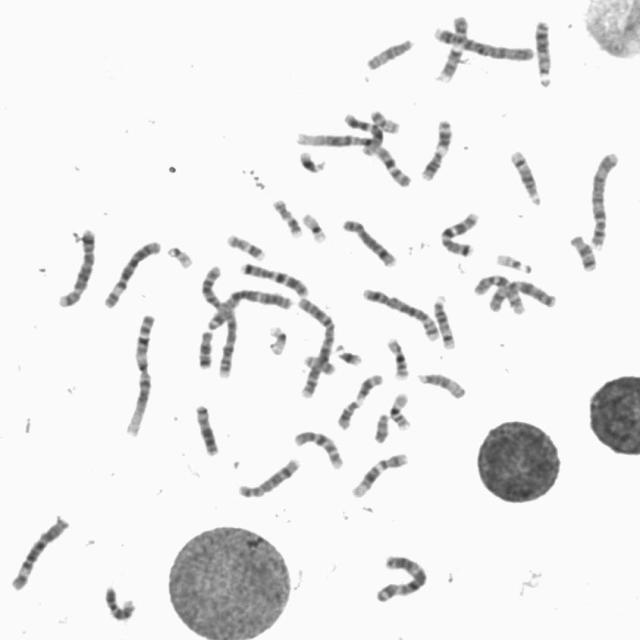A1: (291, 126, 416, 189), (120, 308, 158, 439)
A2: (197, 261, 240, 380), (293, 291, 339, 399)
A3: (202, 283, 295, 331), (372, 549, 432, 604)
B4: (430, 20, 538, 61), (585, 146, 622, 250)
B5: (359, 282, 443, 342), (54, 222, 99, 308)
C10: (290, 424, 348, 471), (471, 269, 529, 316)
C11: (334, 367, 386, 431), (418, 114, 456, 182)
C12: (348, 447, 412, 499), (339, 108, 385, 157)
C6: (7, 512, 72, 592), (99, 234, 164, 310)
C7: (236, 256, 312, 298), (436, 206, 482, 258)
C8: (234, 452, 304, 500), (339, 214, 400, 268)
C9: (432, 10, 472, 83), (101, 581, 139, 622)
D13: (191, 398, 223, 456), (531, 14, 556, 88)
D14: (506, 144, 544, 207), (430, 290, 460, 351)
D15: (363, 32, 417, 72), (414, 367, 469, 400)
E16: (383, 332, 412, 382), (386, 387, 415, 431)
E17: (269, 193, 306, 238), (223, 228, 268, 262)
E18: (566, 230, 600, 272), (195, 325, 217, 370)
F19: (299, 207, 330, 244), (264, 320, 291, 357)
F20: (366, 104, 404, 135), (301, 349, 339, 376)
G21: (295, 146, 329, 174), (333, 339, 365, 366)
G22: (492, 247, 535, 274), (163, 240, 196, 270)
X: (483, 274, 560, 312)
